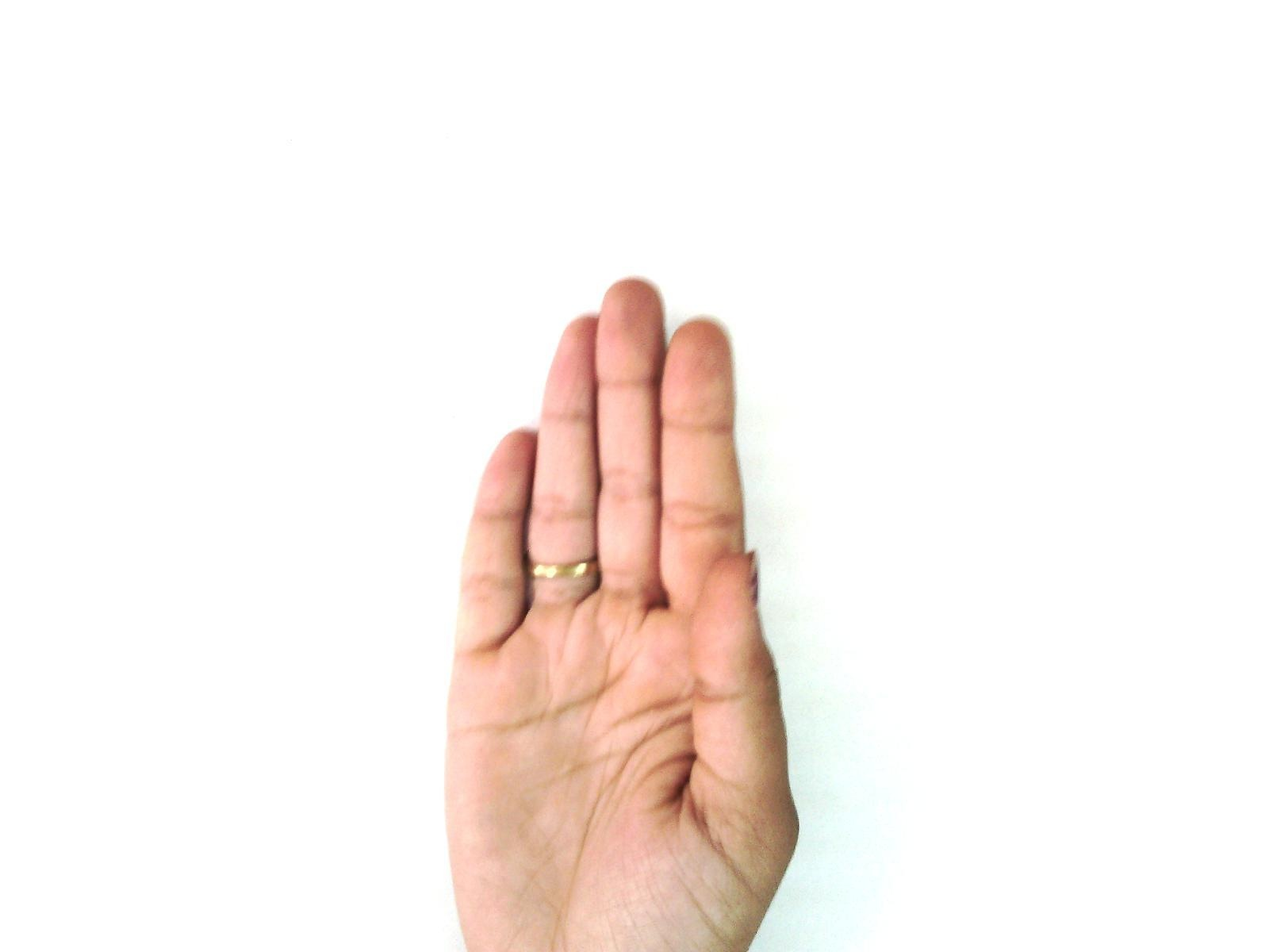open_palm: (440, 277, 803, 951)
